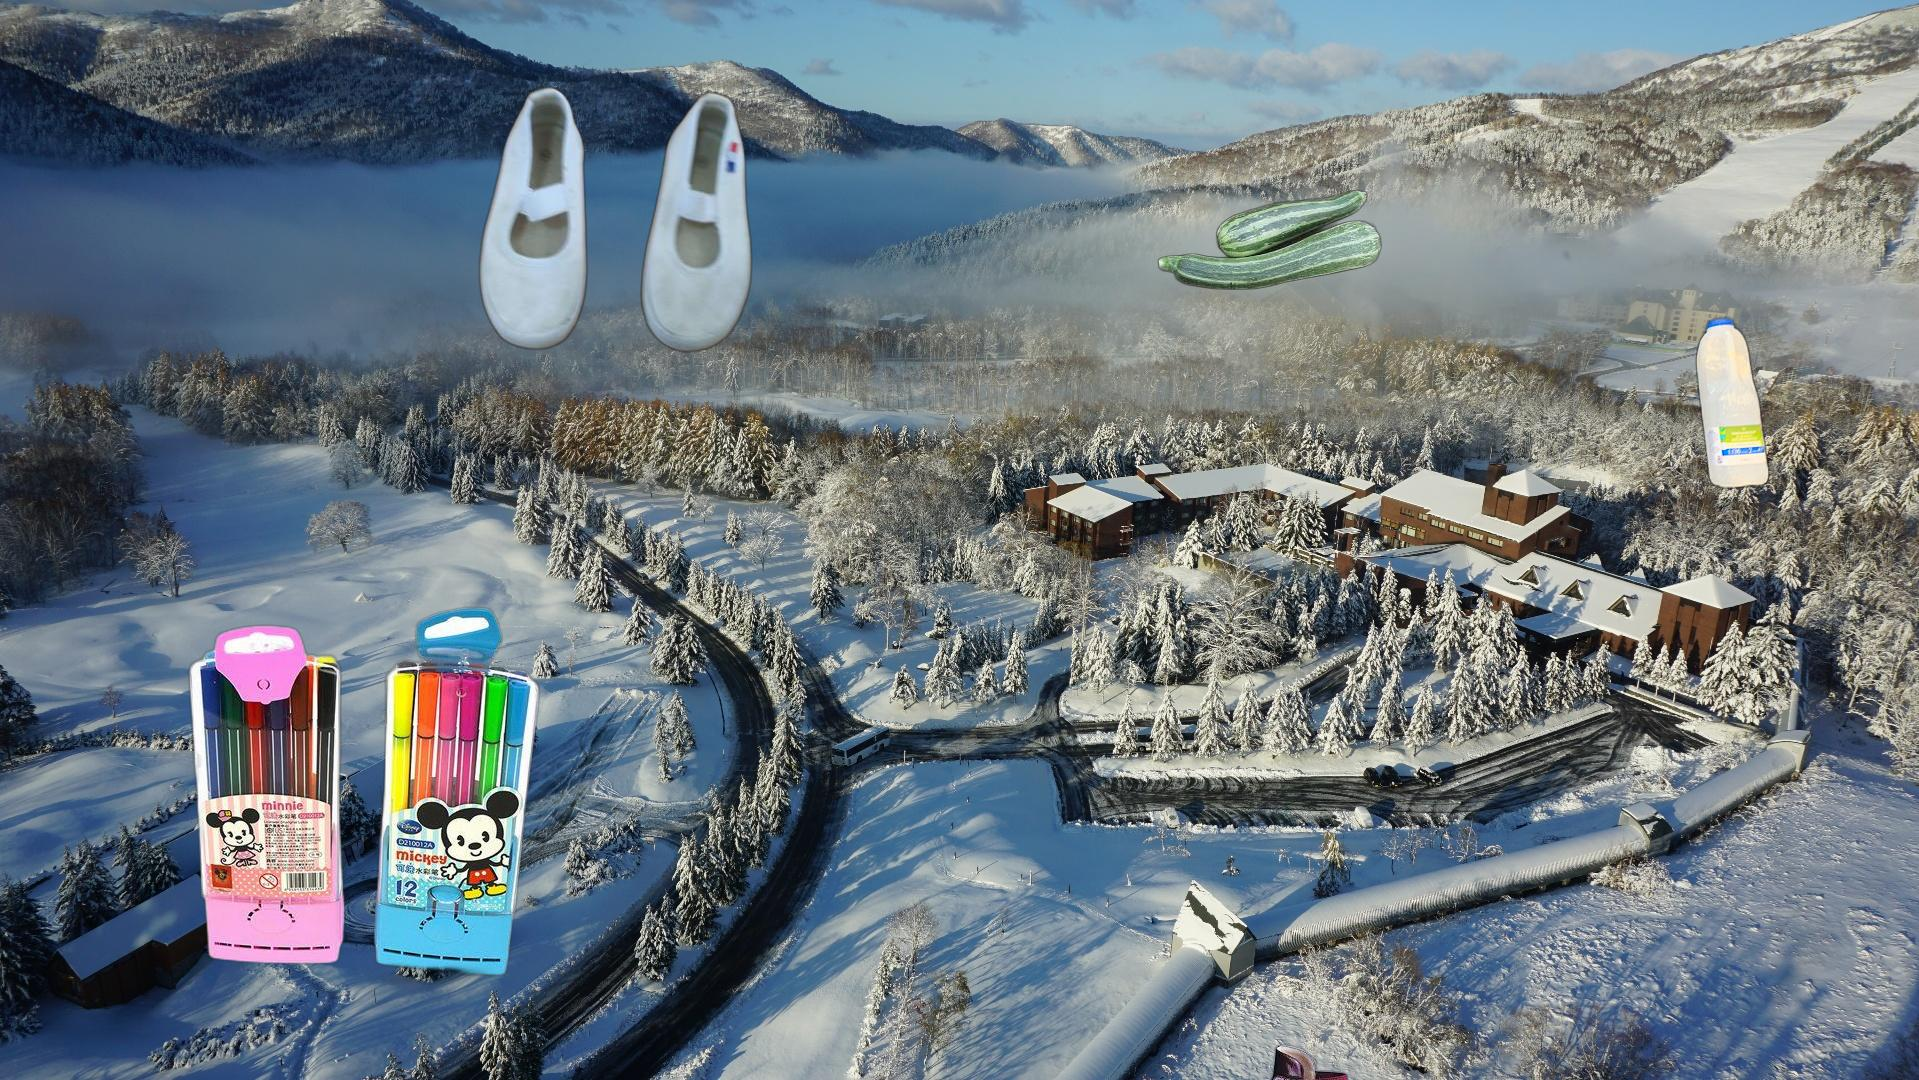biological: (1155, 187, 1383, 291)
penholder: (185, 603, 546, 978)
plastic-bottles: (1765, 589, 1919, 1038), (1691, 313, 1774, 495)
shoes: (474, 82, 757, 356), (1259, 1040, 1429, 1080)
trashbox-cardboard: (455, 328, 967, 712)
